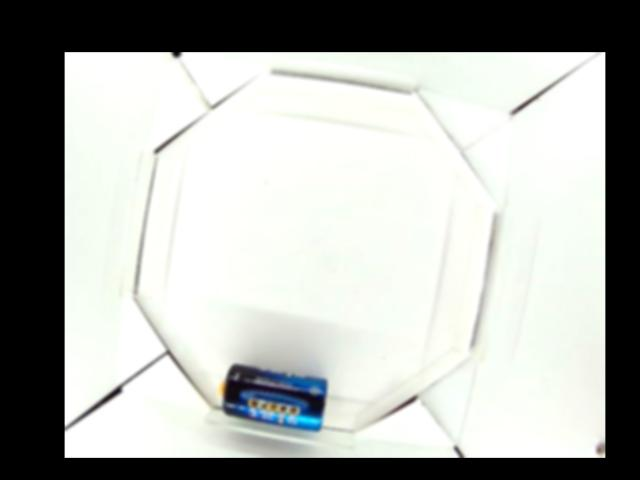Battery: (220, 363, 328, 429)
